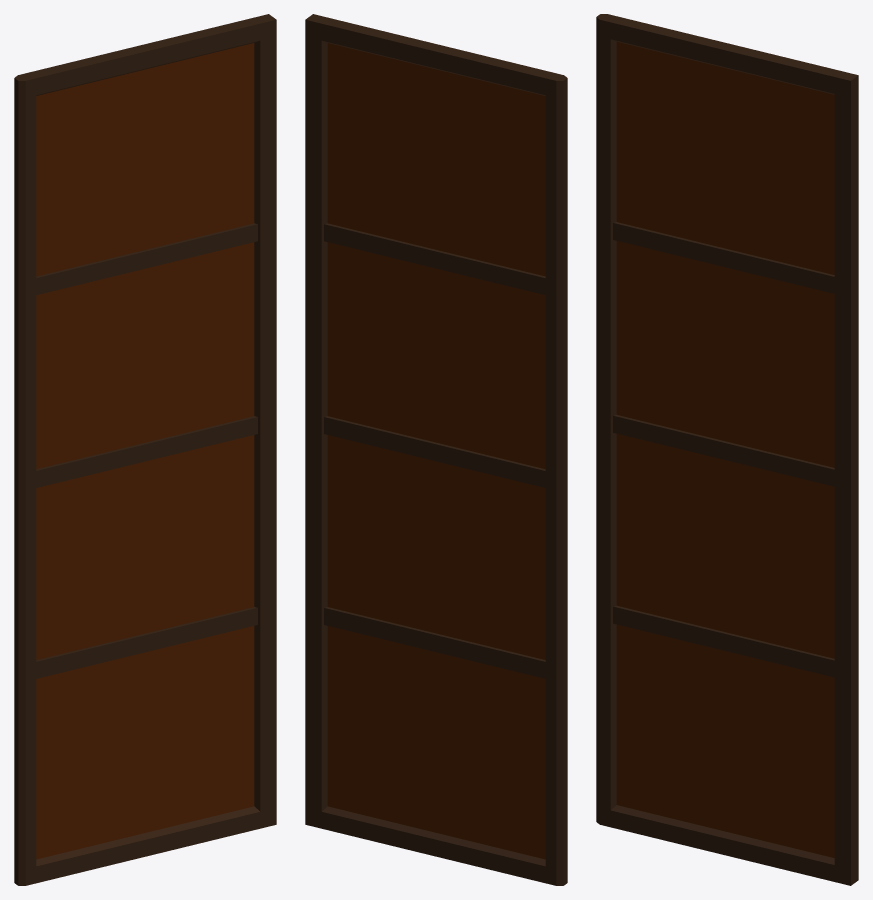
The model's file is Prop_Dojo_Entrance_DoorR_Inside.fbx.
3 views of the same model, side by side, from view 1: azimuth 30°, elevation 25°; view 2: azimuth 150°, elevation 25°; view 3: azimuth 330°, elevation 25° (orthographic).
Visible parts, largest first — view 1: Prop_Dojo_Entrance_DoorR_Inside; view 2: Prop_Dojo_Entrance_DoorR_Inside; view 3: Prop_Dojo_Entrance_DoorR_Inside.
Boxes of the visible parts, box(x1,y1,x2,y2) form: Prop_Dojo_Entrance_DoorR_Inside: box(14, 14, 276, 885); Prop_Dojo_Entrance_DoorR_Inside: box(305, 14, 567, 885); Prop_Dojo_Entrance_DoorR_Inside: box(596, 14, 858, 885).
Size of the model in its own units: 95 by 285 by 5.
